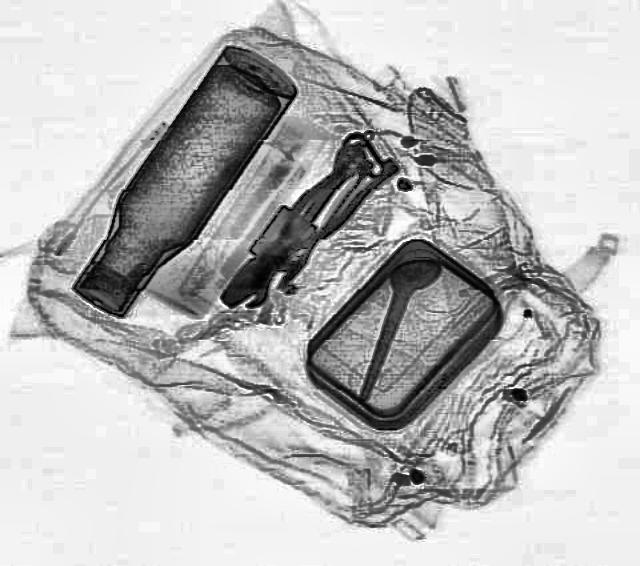Pliers: (220, 135, 400, 301)
Wrench: (216, 138, 377, 314)
